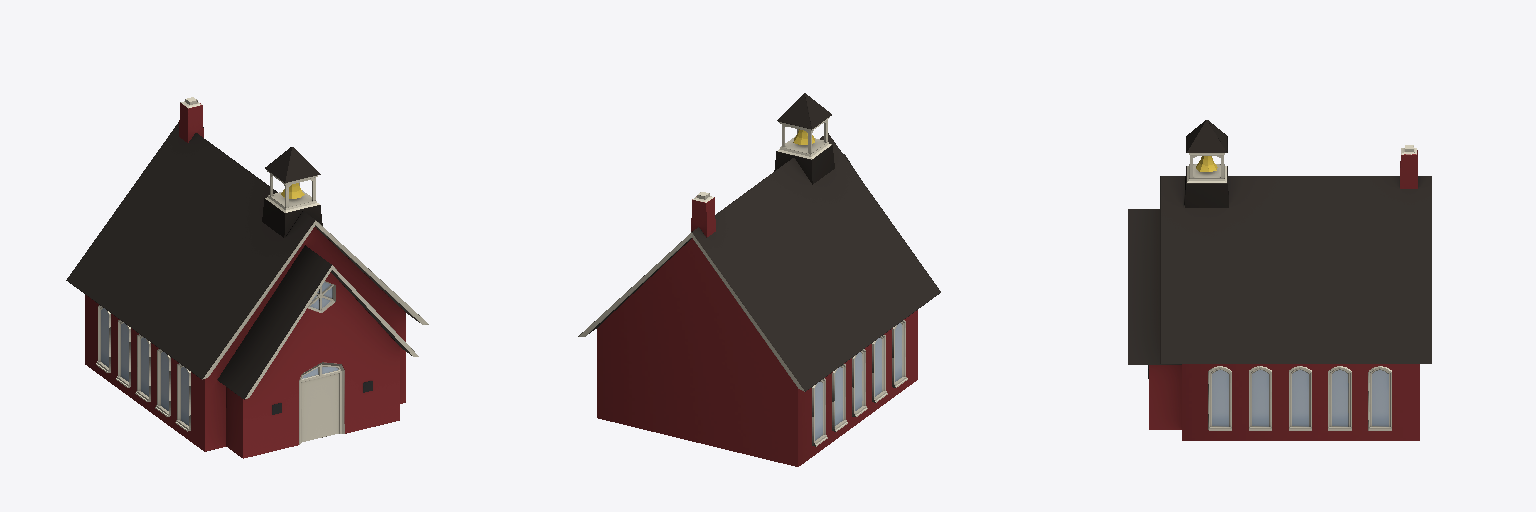
3 renders of one model, left to right at view 1: azimuth 30°, elevation 25°; view 2: azimuth 150°, elevation 25°; view 3: azimuth 270°, elevation 25°, orthographic.
Visible parts, largest first — view 1: SchoolHouse_mesh; view 2: SchoolHouse_mesh; view 3: SchoolHouse_mesh.
Part boxes in pixels (x1,y1,x2,y2): SchoolHouse_mesh: (66,97,428,458); SchoolHouse_mesh: (578,93,940,466); SchoolHouse_mesh: (1128,120,1431,440).
Size of the model in its own units: 13.18 by 15.02 by 15.31.
Materials: 1 (1 with a texture image).